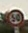limite 50: (6, 8, 24, 26)
